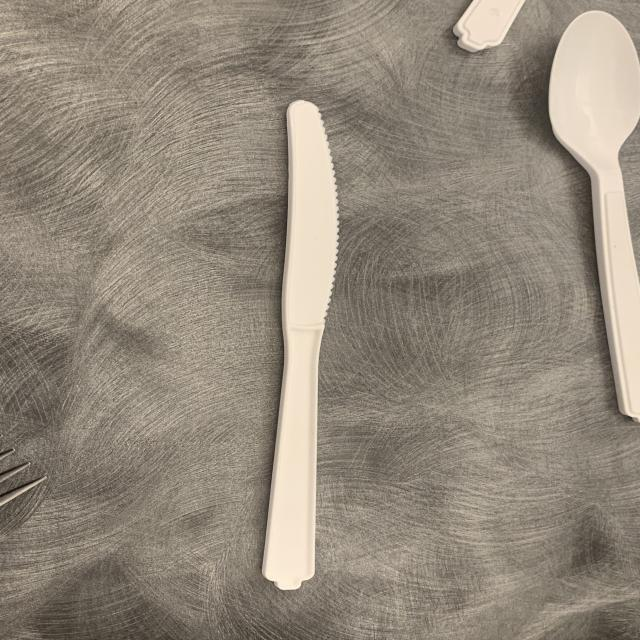knife: (238, 91, 360, 602)
spoon: (534, 7, 640, 459)
